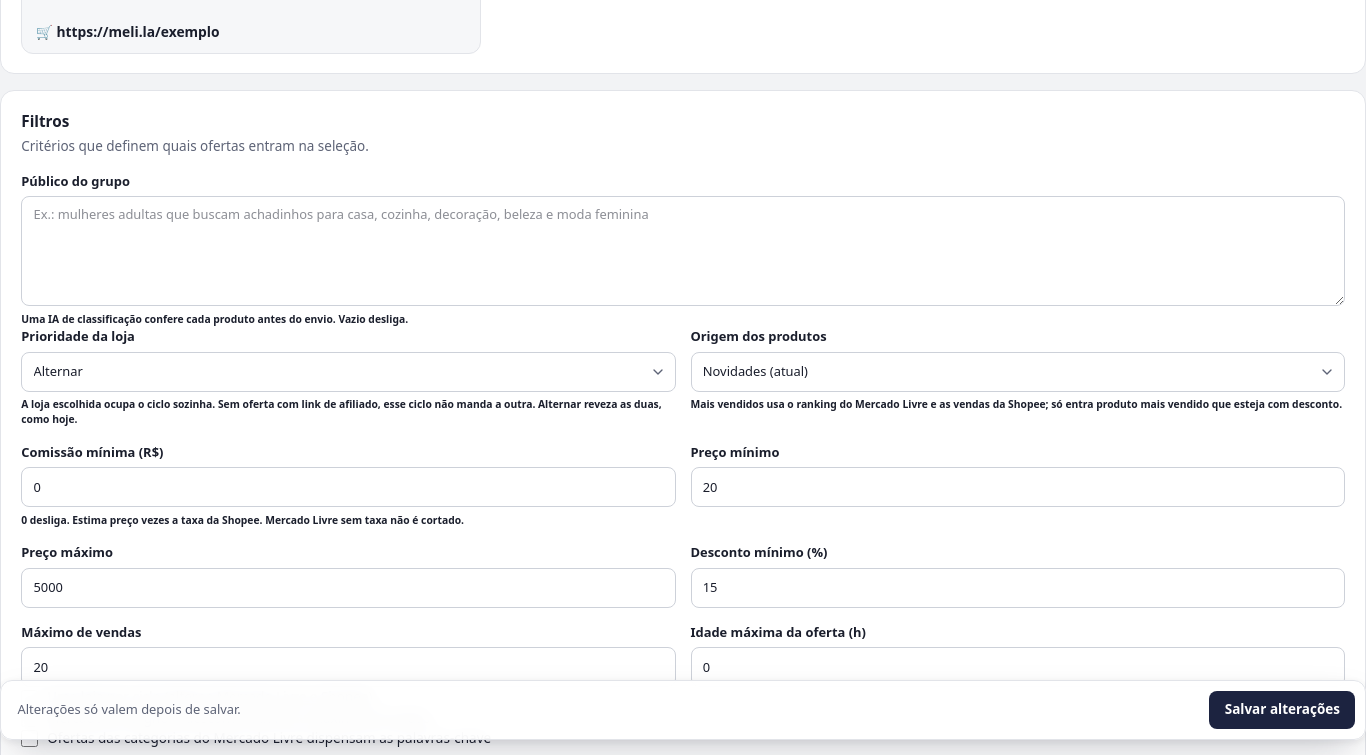
Test: prioriza o Mercado Livre e grava a loja na frente sem mudar o revezamento padrão
(page scrolled)
Select "Mercado Livre" in the dropdown labelled "Prioridade da loja": coordinates (348, 372) [21, 352, 676, 392]
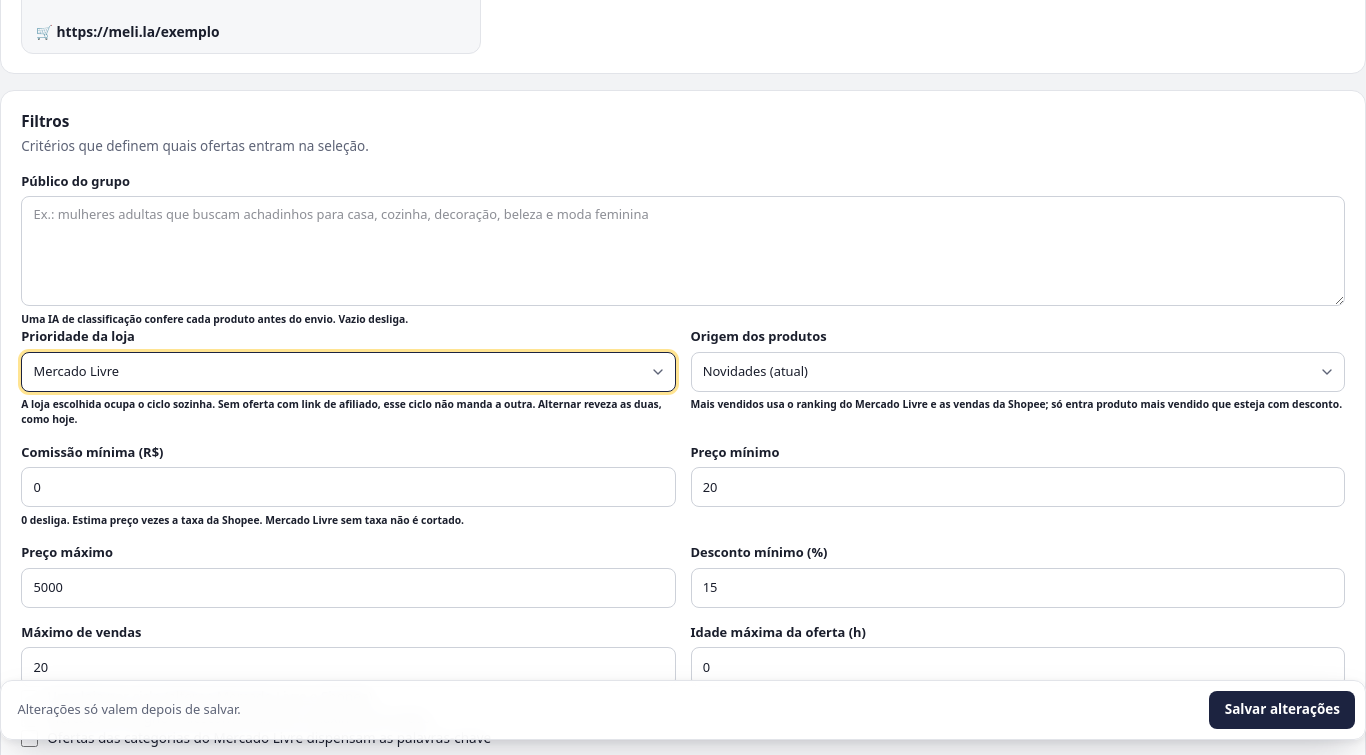
Click the button "Salvar alterações": coordinates (1282, 710) [1210, 691, 1355, 729]
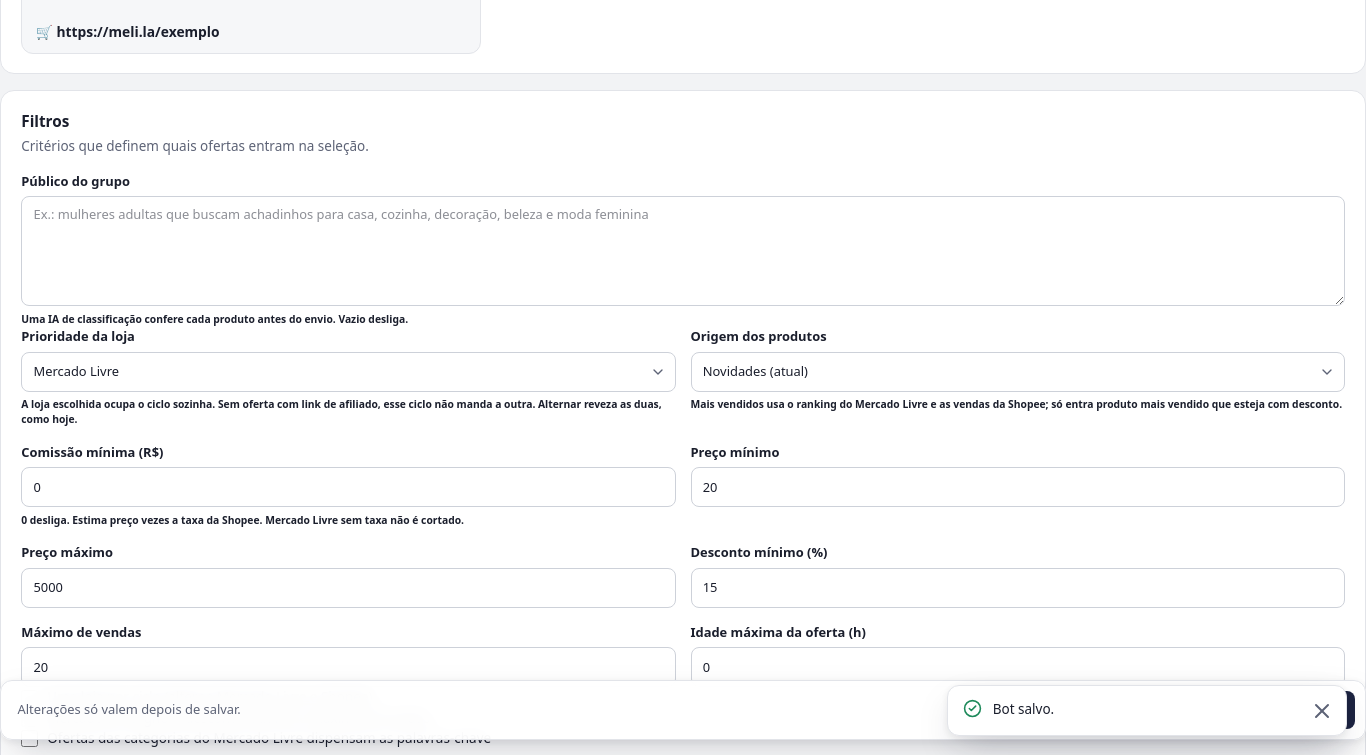
Now the text "Bot salvo." is shown, box [993, 700, 1054, 718]
